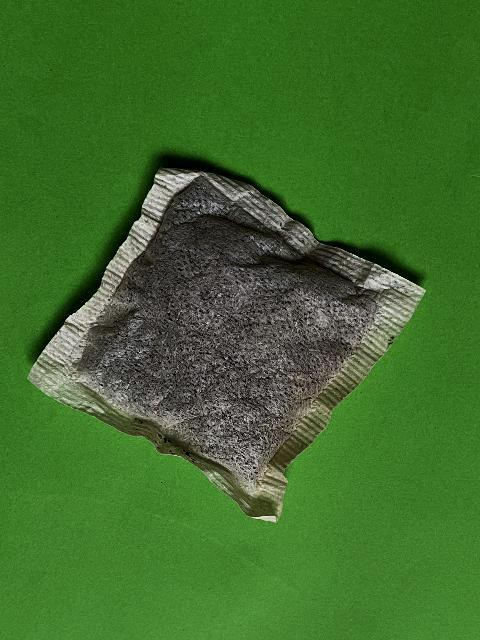teabag: (25, 163, 428, 525)
